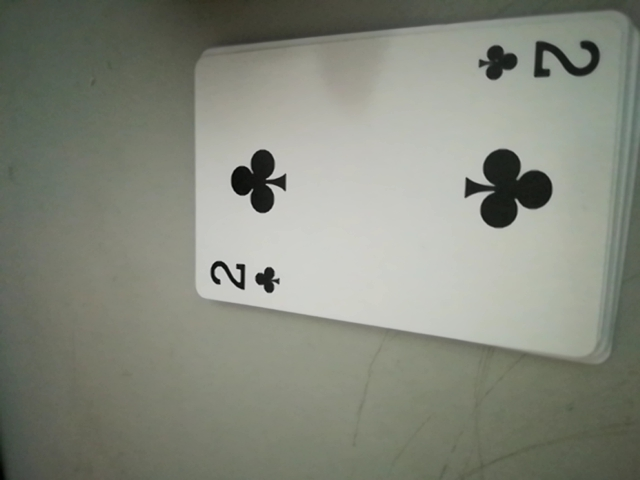mh 2: (476, 30, 601, 91), (204, 253, 289, 303)
